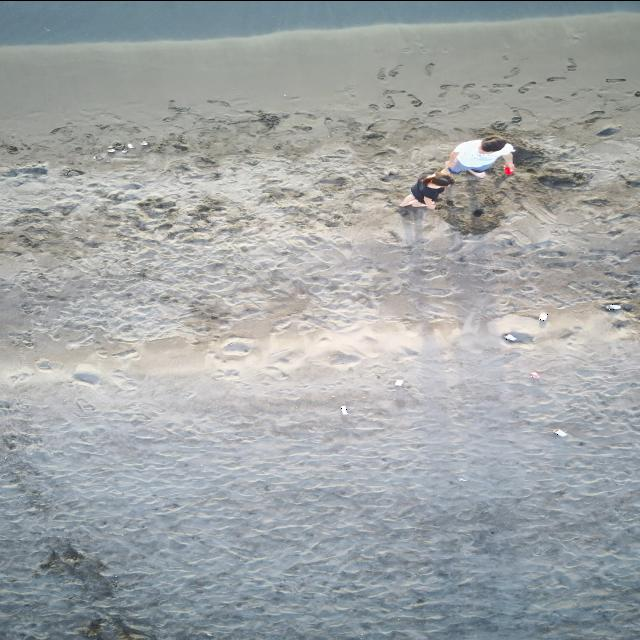Garbage: (503, 332, 532, 343), (595, 127, 620, 136), (64, 167, 83, 176), (552, 428, 567, 436), (604, 303, 620, 310), (504, 332, 515, 340), (539, 312, 547, 322), (504, 166, 512, 175), (529, 372, 539, 379), (395, 379, 403, 386), (340, 406, 347, 413), (92, 154, 103, 158), (457, 476, 467, 480), (141, 140, 148, 145), (127, 143, 132, 148), (107, 148, 115, 151), (121, 148, 127, 152)
